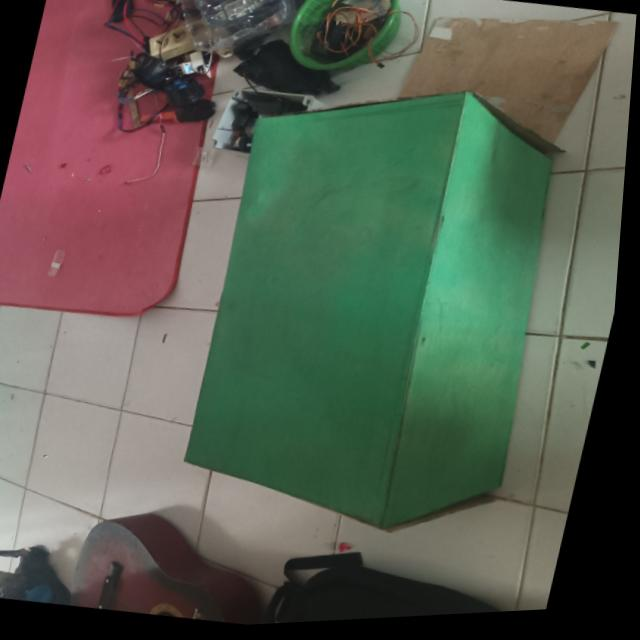green_box: (131, 14, 638, 601)
